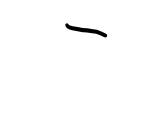minus: (64, 22, 107, 38)
